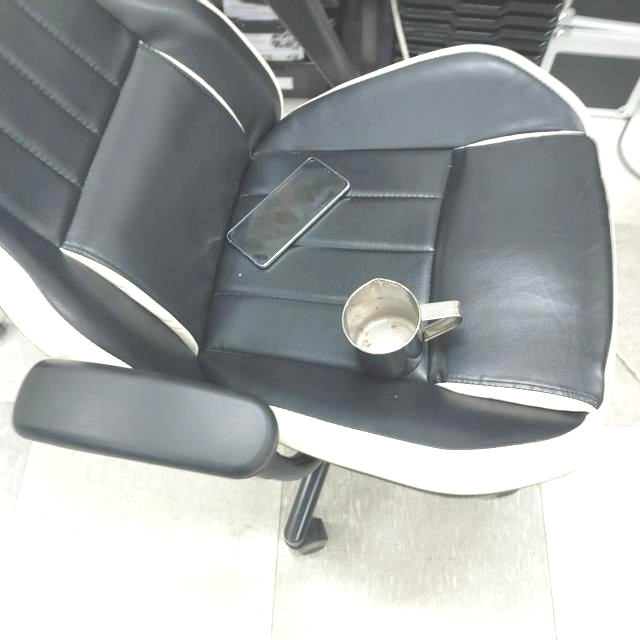cup: (340, 275, 465, 380)
phone: (225, 154, 351, 271)
